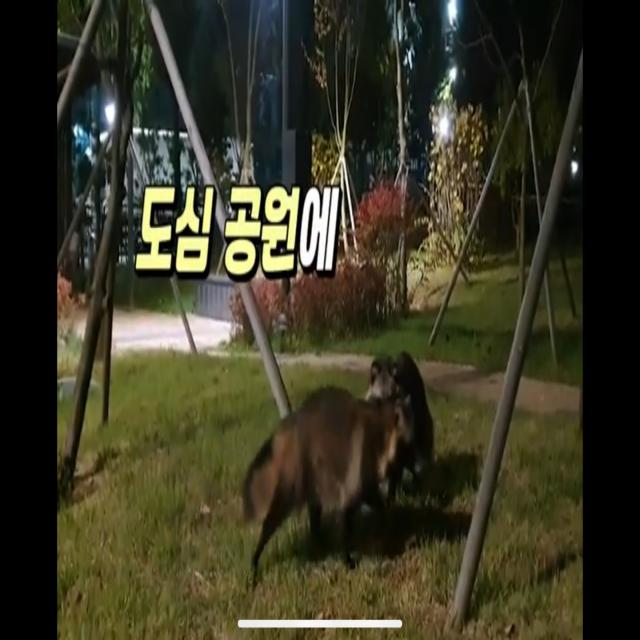racoon: (239, 400, 411, 546)
